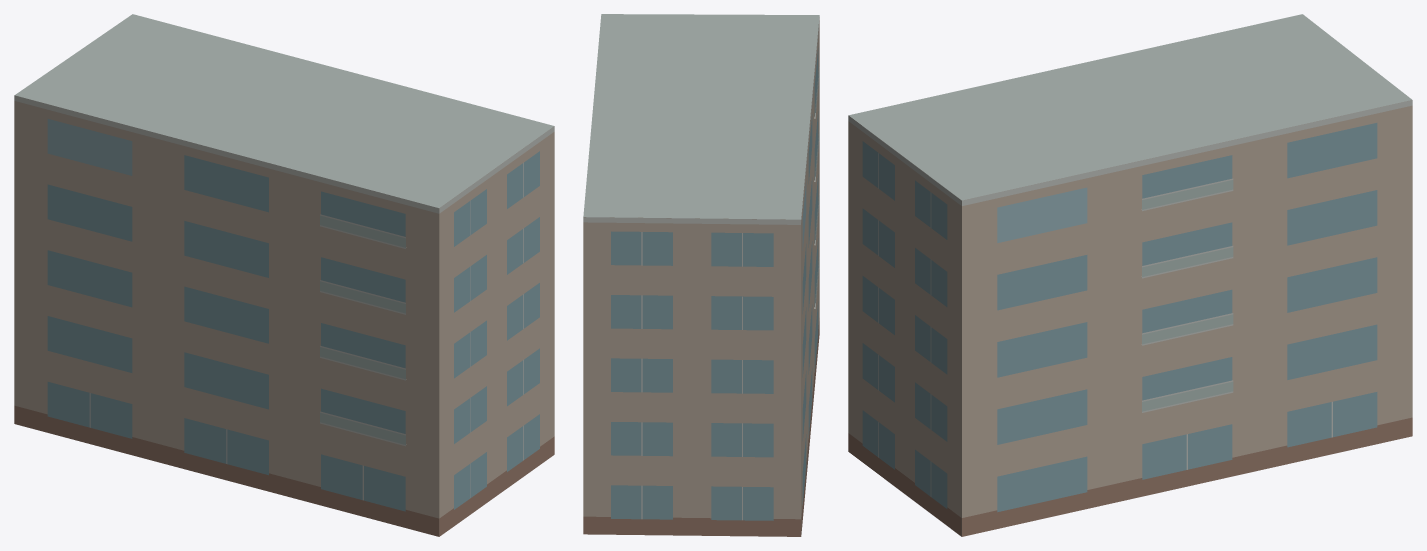
Rendered from survey-upis-32714516.glb.
3 renders of one model, left to right at view 1: azimuth 30°, elevation 25°; view 2: azimuth 150°, elevation 25°; view 3: azimuth 270°, elevation 25°, orthographic. The views are drawn at different scales.
Parts seen in each view (by area): view 1: survey-upis-32714516.tmp; view 2: survey-upis-32714516.tmp; view 3: survey-upis-32714516.tmp.
Part boxes in pixels (bbox=[...]): survey-upis-32714516.tmp: bbox=[14, 14, 554, 536]; survey-upis-32714516.tmp: bbox=[583, 14, 819, 536]; survey-upis-32714516.tmp: bbox=[848, 14, 1412, 536].
Bounding box in the file's own units: 17.26 × 14.5 × 22.05.
